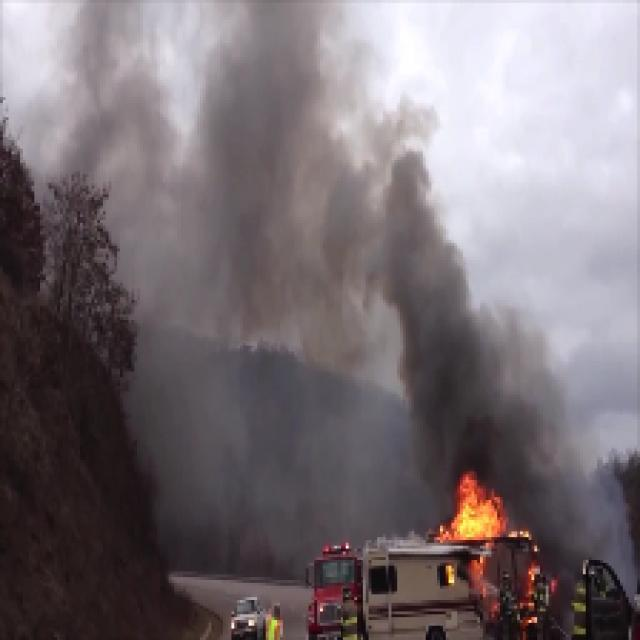Smoke: (70, 2, 386, 378), (400, 170, 473, 466), (488, 310, 572, 476)
